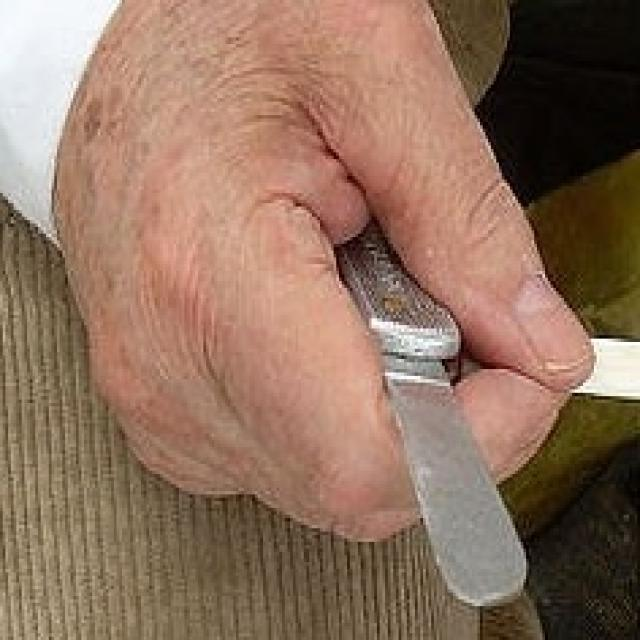knife: (344, 220, 533, 611)
